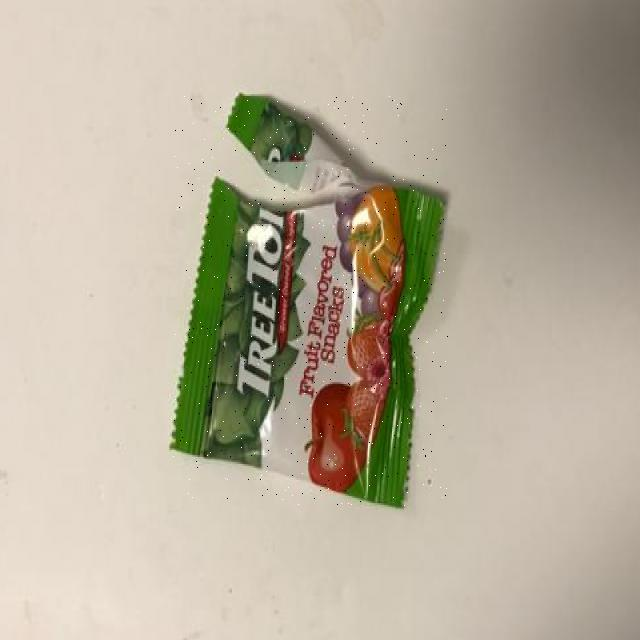wrapper: (174, 94, 448, 506)
